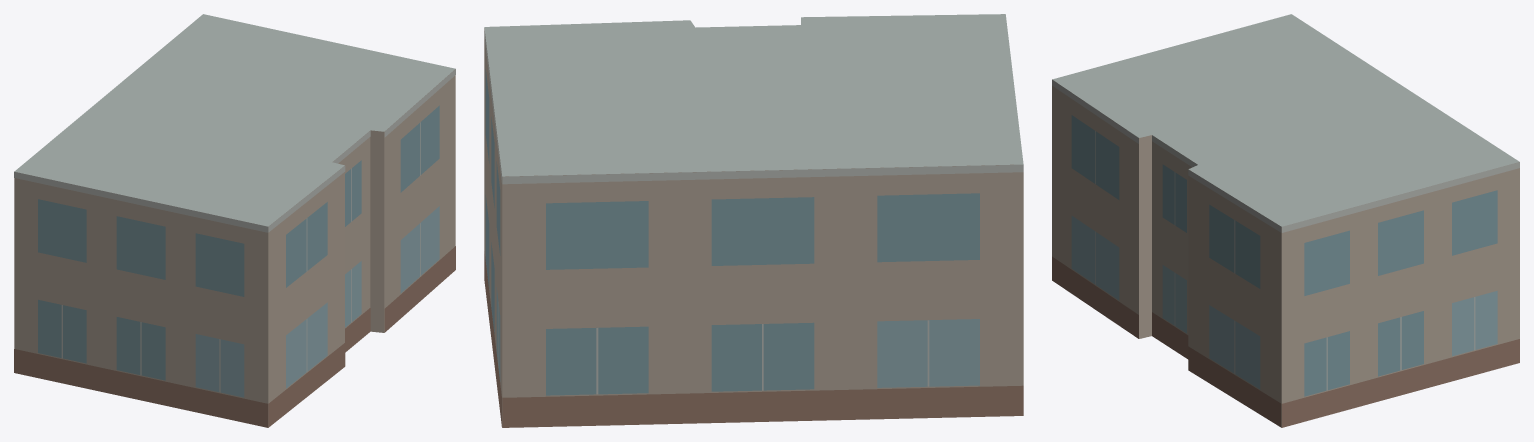
The model's file is survey-upis-32625300.glb.
3 views of the same model, side by side, from view 1: azimuth 30°, elevation 25°; view 2: azimuth 150°, elevation 25°; view 3: azimuth 270°, elevation 25° (orthographic). The views are drawn at different scales.
Visible parts, largest first — view 1: survey-upis-32625300.tmp; view 2: survey-upis-32625300.tmp; view 3: survey-upis-32625300.tmp.
Part boxes in pixels (x1,y1,x2,y2): survey-upis-32625300.tmp: (14, 14, 455, 427); survey-upis-32625300.tmp: (484, 14, 1023, 427); survey-upis-32625300.tmp: (1052, 14, 1519, 427).
Bounding box in the file's own units: 17.95 × 7.9 × 16.67.
